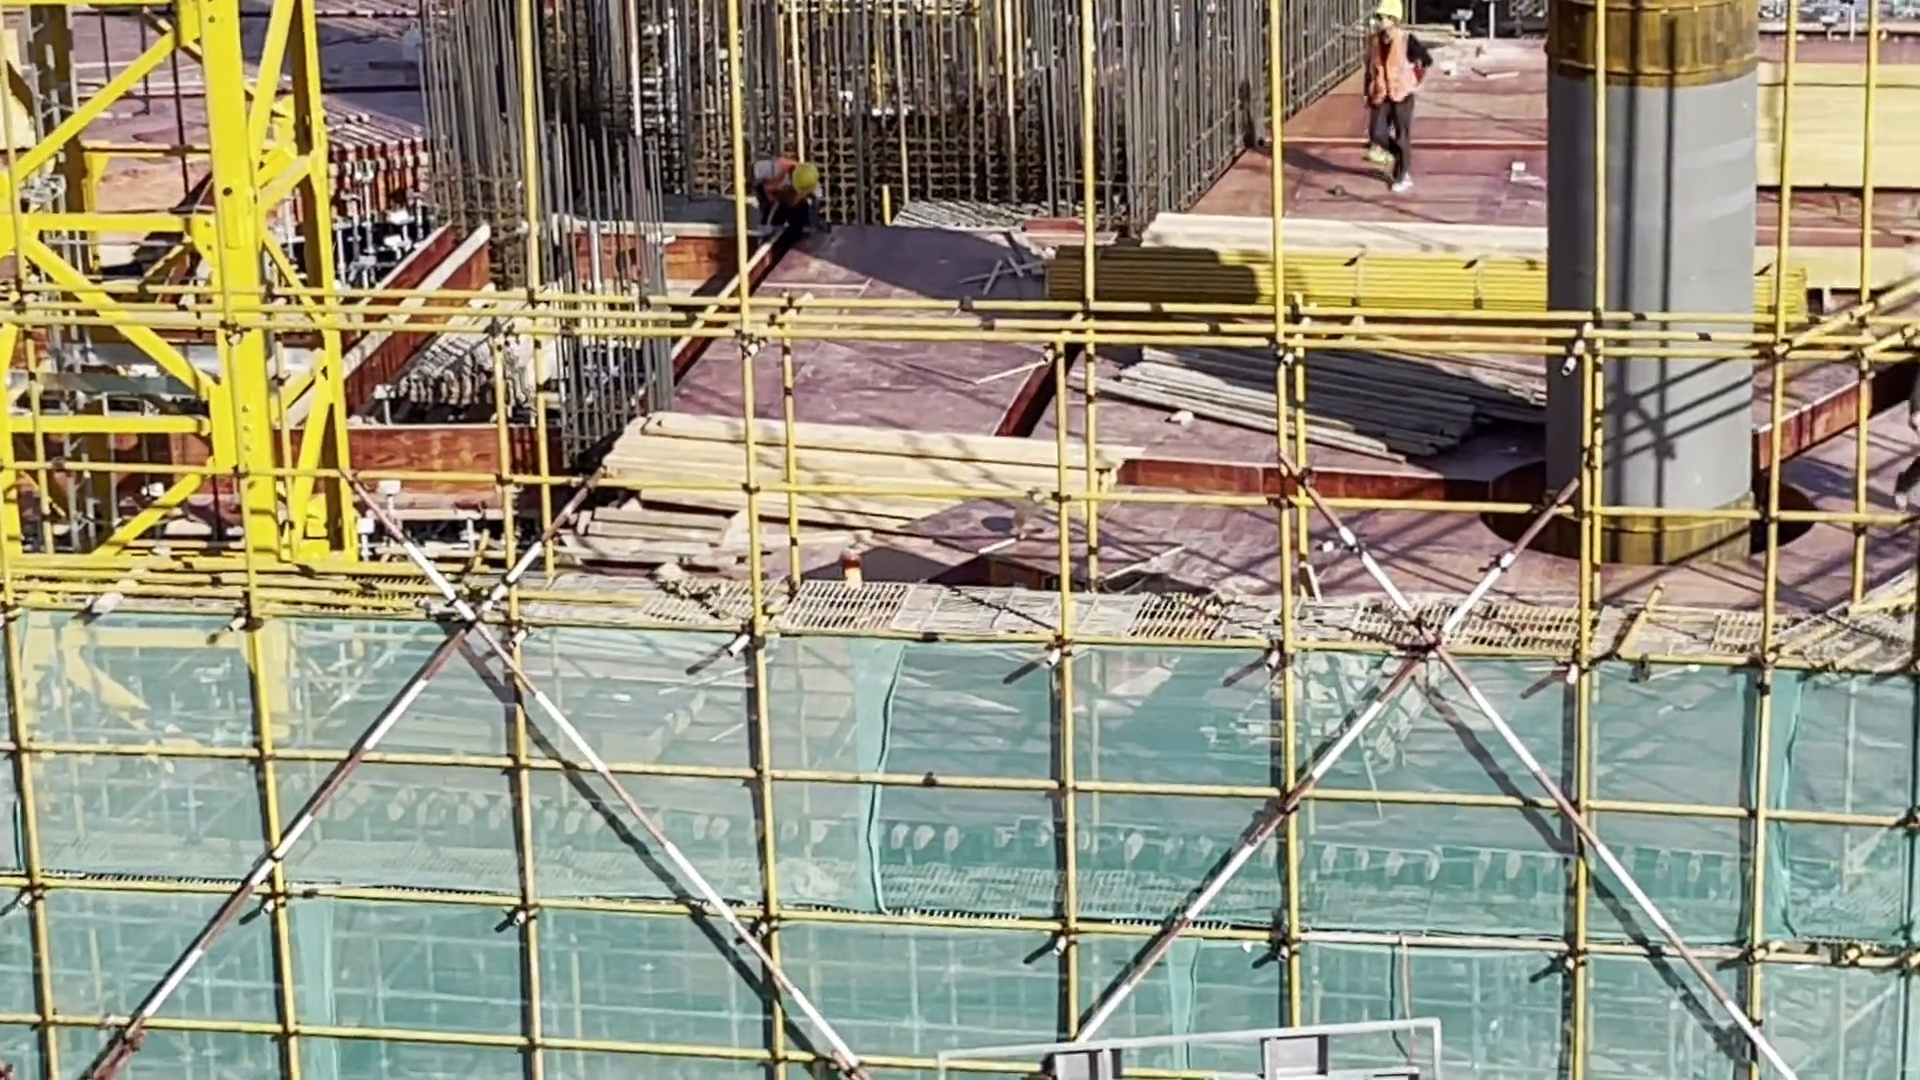board: (1727, 33, 1920, 202)
helmet: (794, 152, 819, 195), (1375, 4, 1405, 27)
person: (1370, 2, 1434, 202), (748, 143, 826, 243)
vest: (1366, 29, 1422, 107), (753, 155, 798, 213)
wood: (597, 402, 1109, 545)
